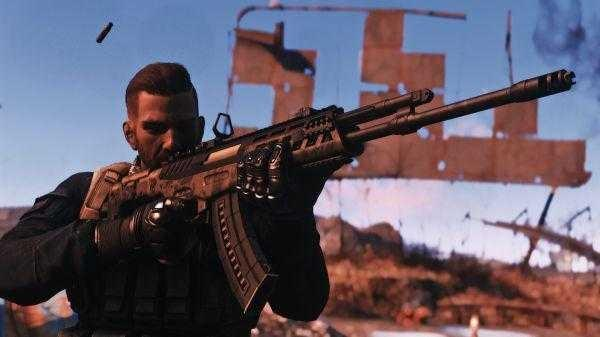heavyweapon: (111, 43, 576, 308)
